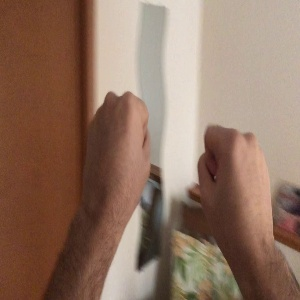hand: (198, 125, 275, 240), (82, 91, 150, 215)
